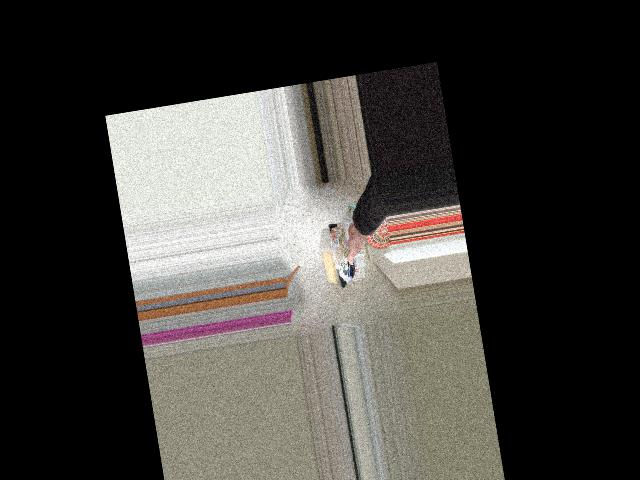cheese: (299, 211, 374, 295)
